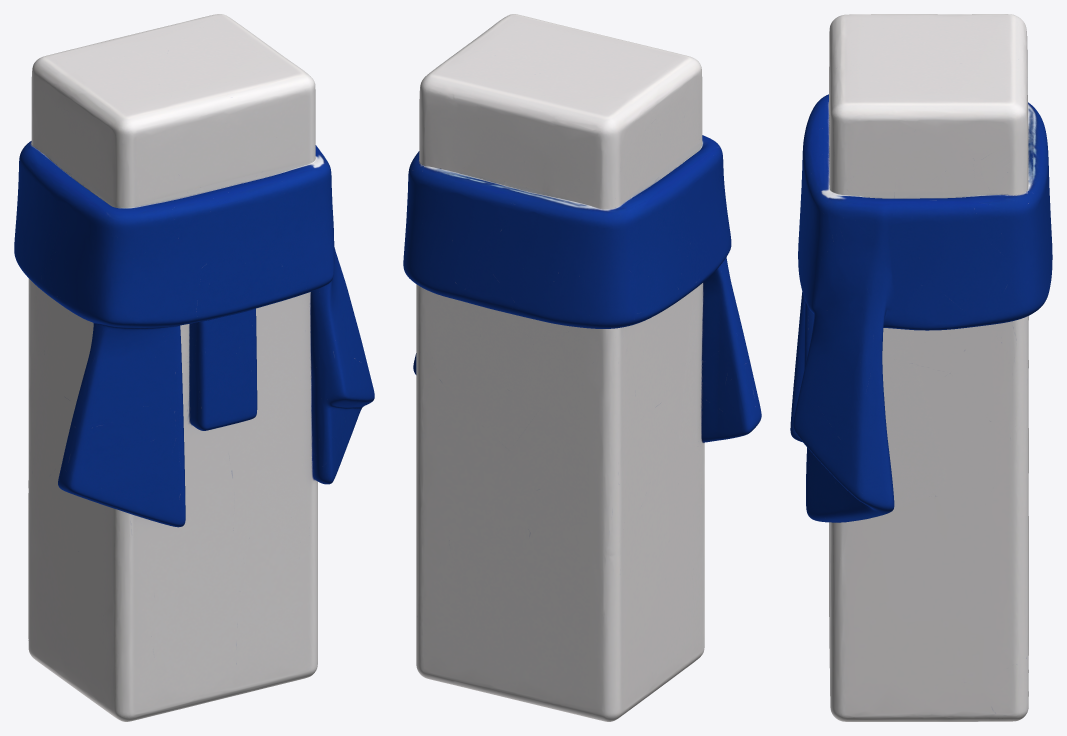
Rendered from Chunky_Square_Pillar.glb.
3 renders of one model, left to right at view 1: azimuth 30°, elevation 25°; view 2: azimuth 150°, elevation 25°; view 3: azimuth 270°, elevation 25°, orthographic. The views are drawn at different scales.
Size of the model in its own units: 1.06 by 1.9 by 0.7308.
Materials: 1 (1 with a texture image).
